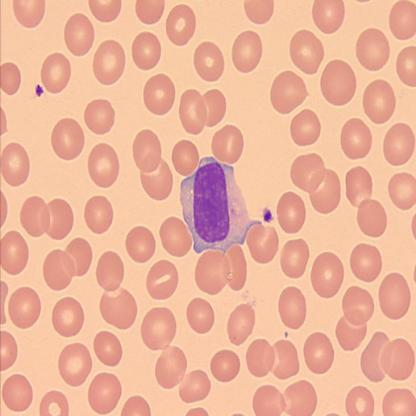Atypical lymphocyte: (181, 156, 261, 256)
